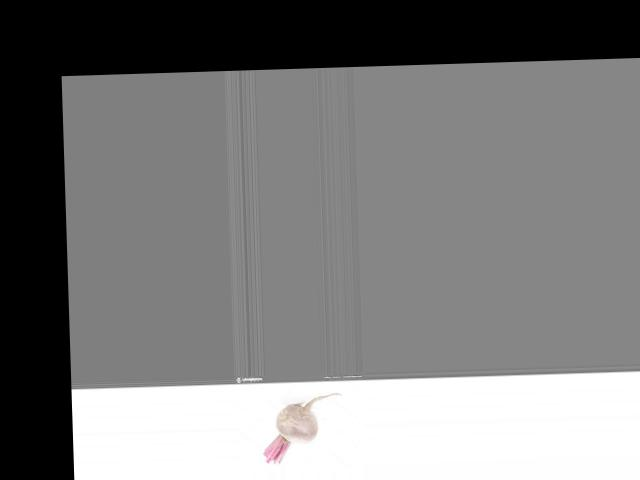beet: (262, 392, 344, 463)
